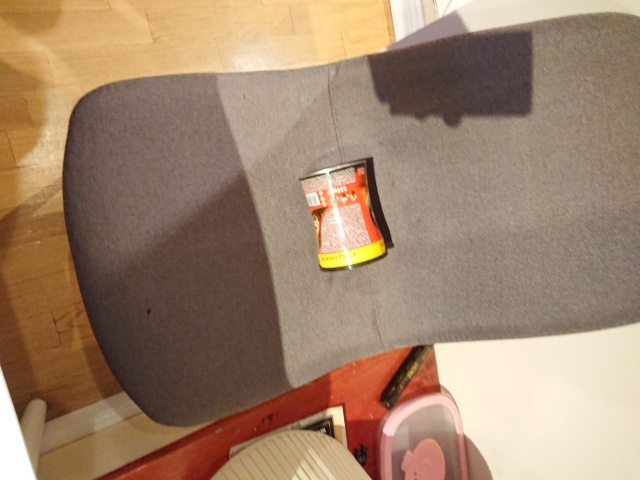Nescafe Classic 225g: (295, 155, 391, 274)
